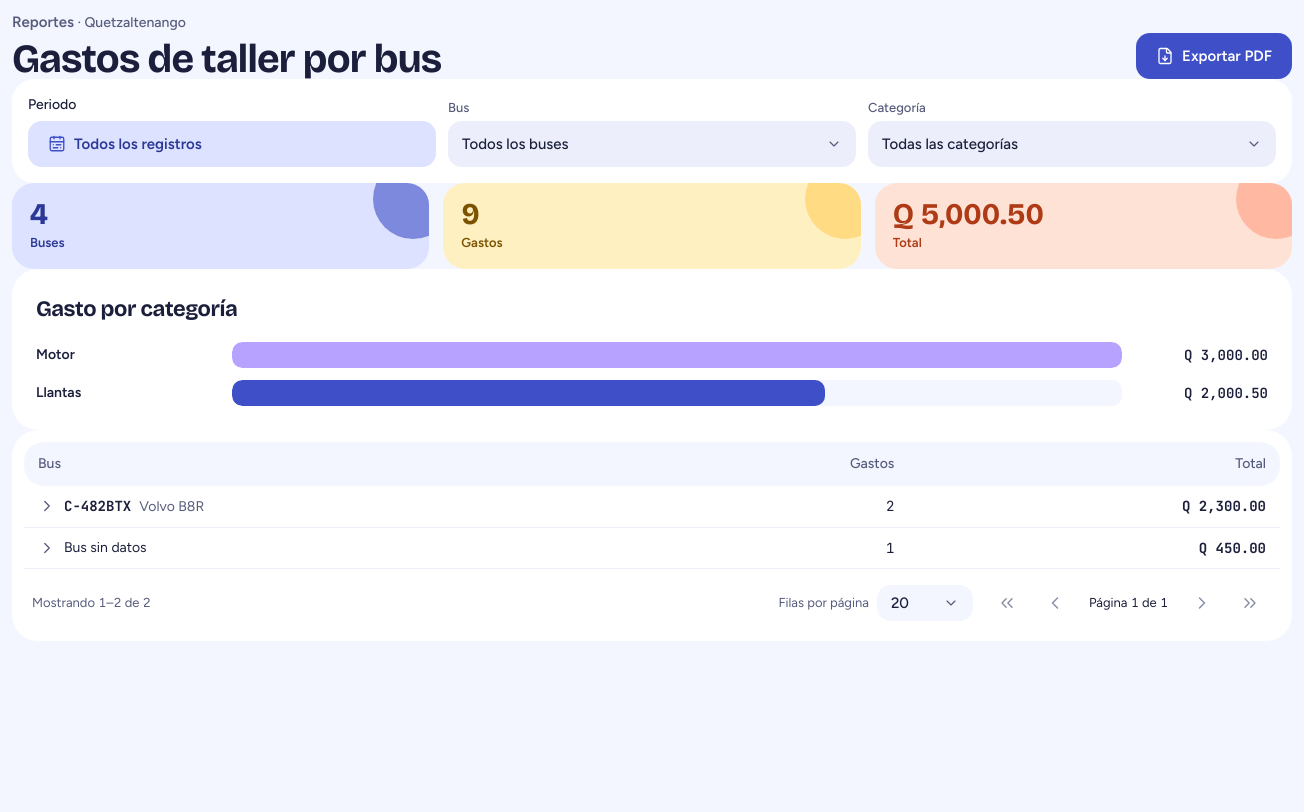
Scenario: RepairReport › opens each bus on its own
The image size is (1304, 812).
Click the button "Bus sin datos".
click(92, 548)  # box x1=38 y1=538 x2=147 y2=558
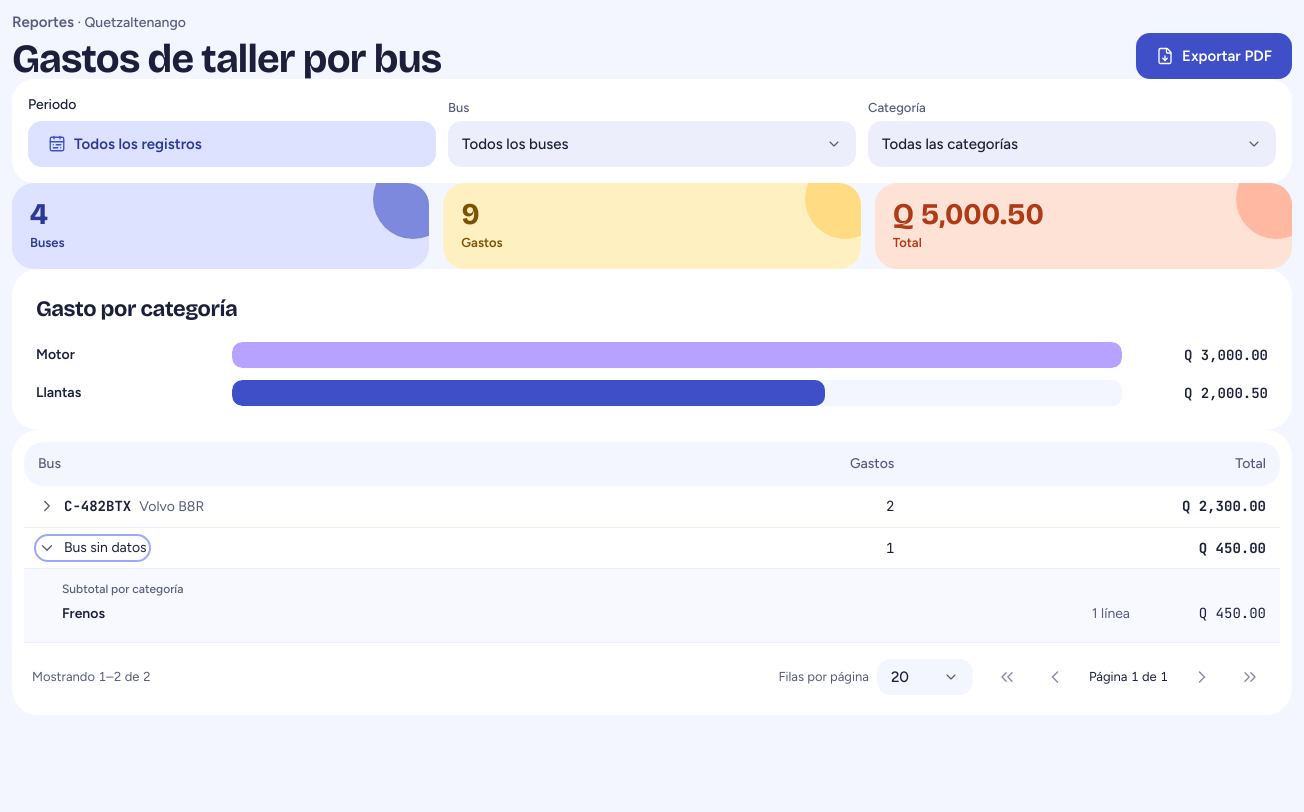
Check: the element named "Categorías de Bus sin datos" is shown, box x1=38 y1=581 x2=1266 y2=630
